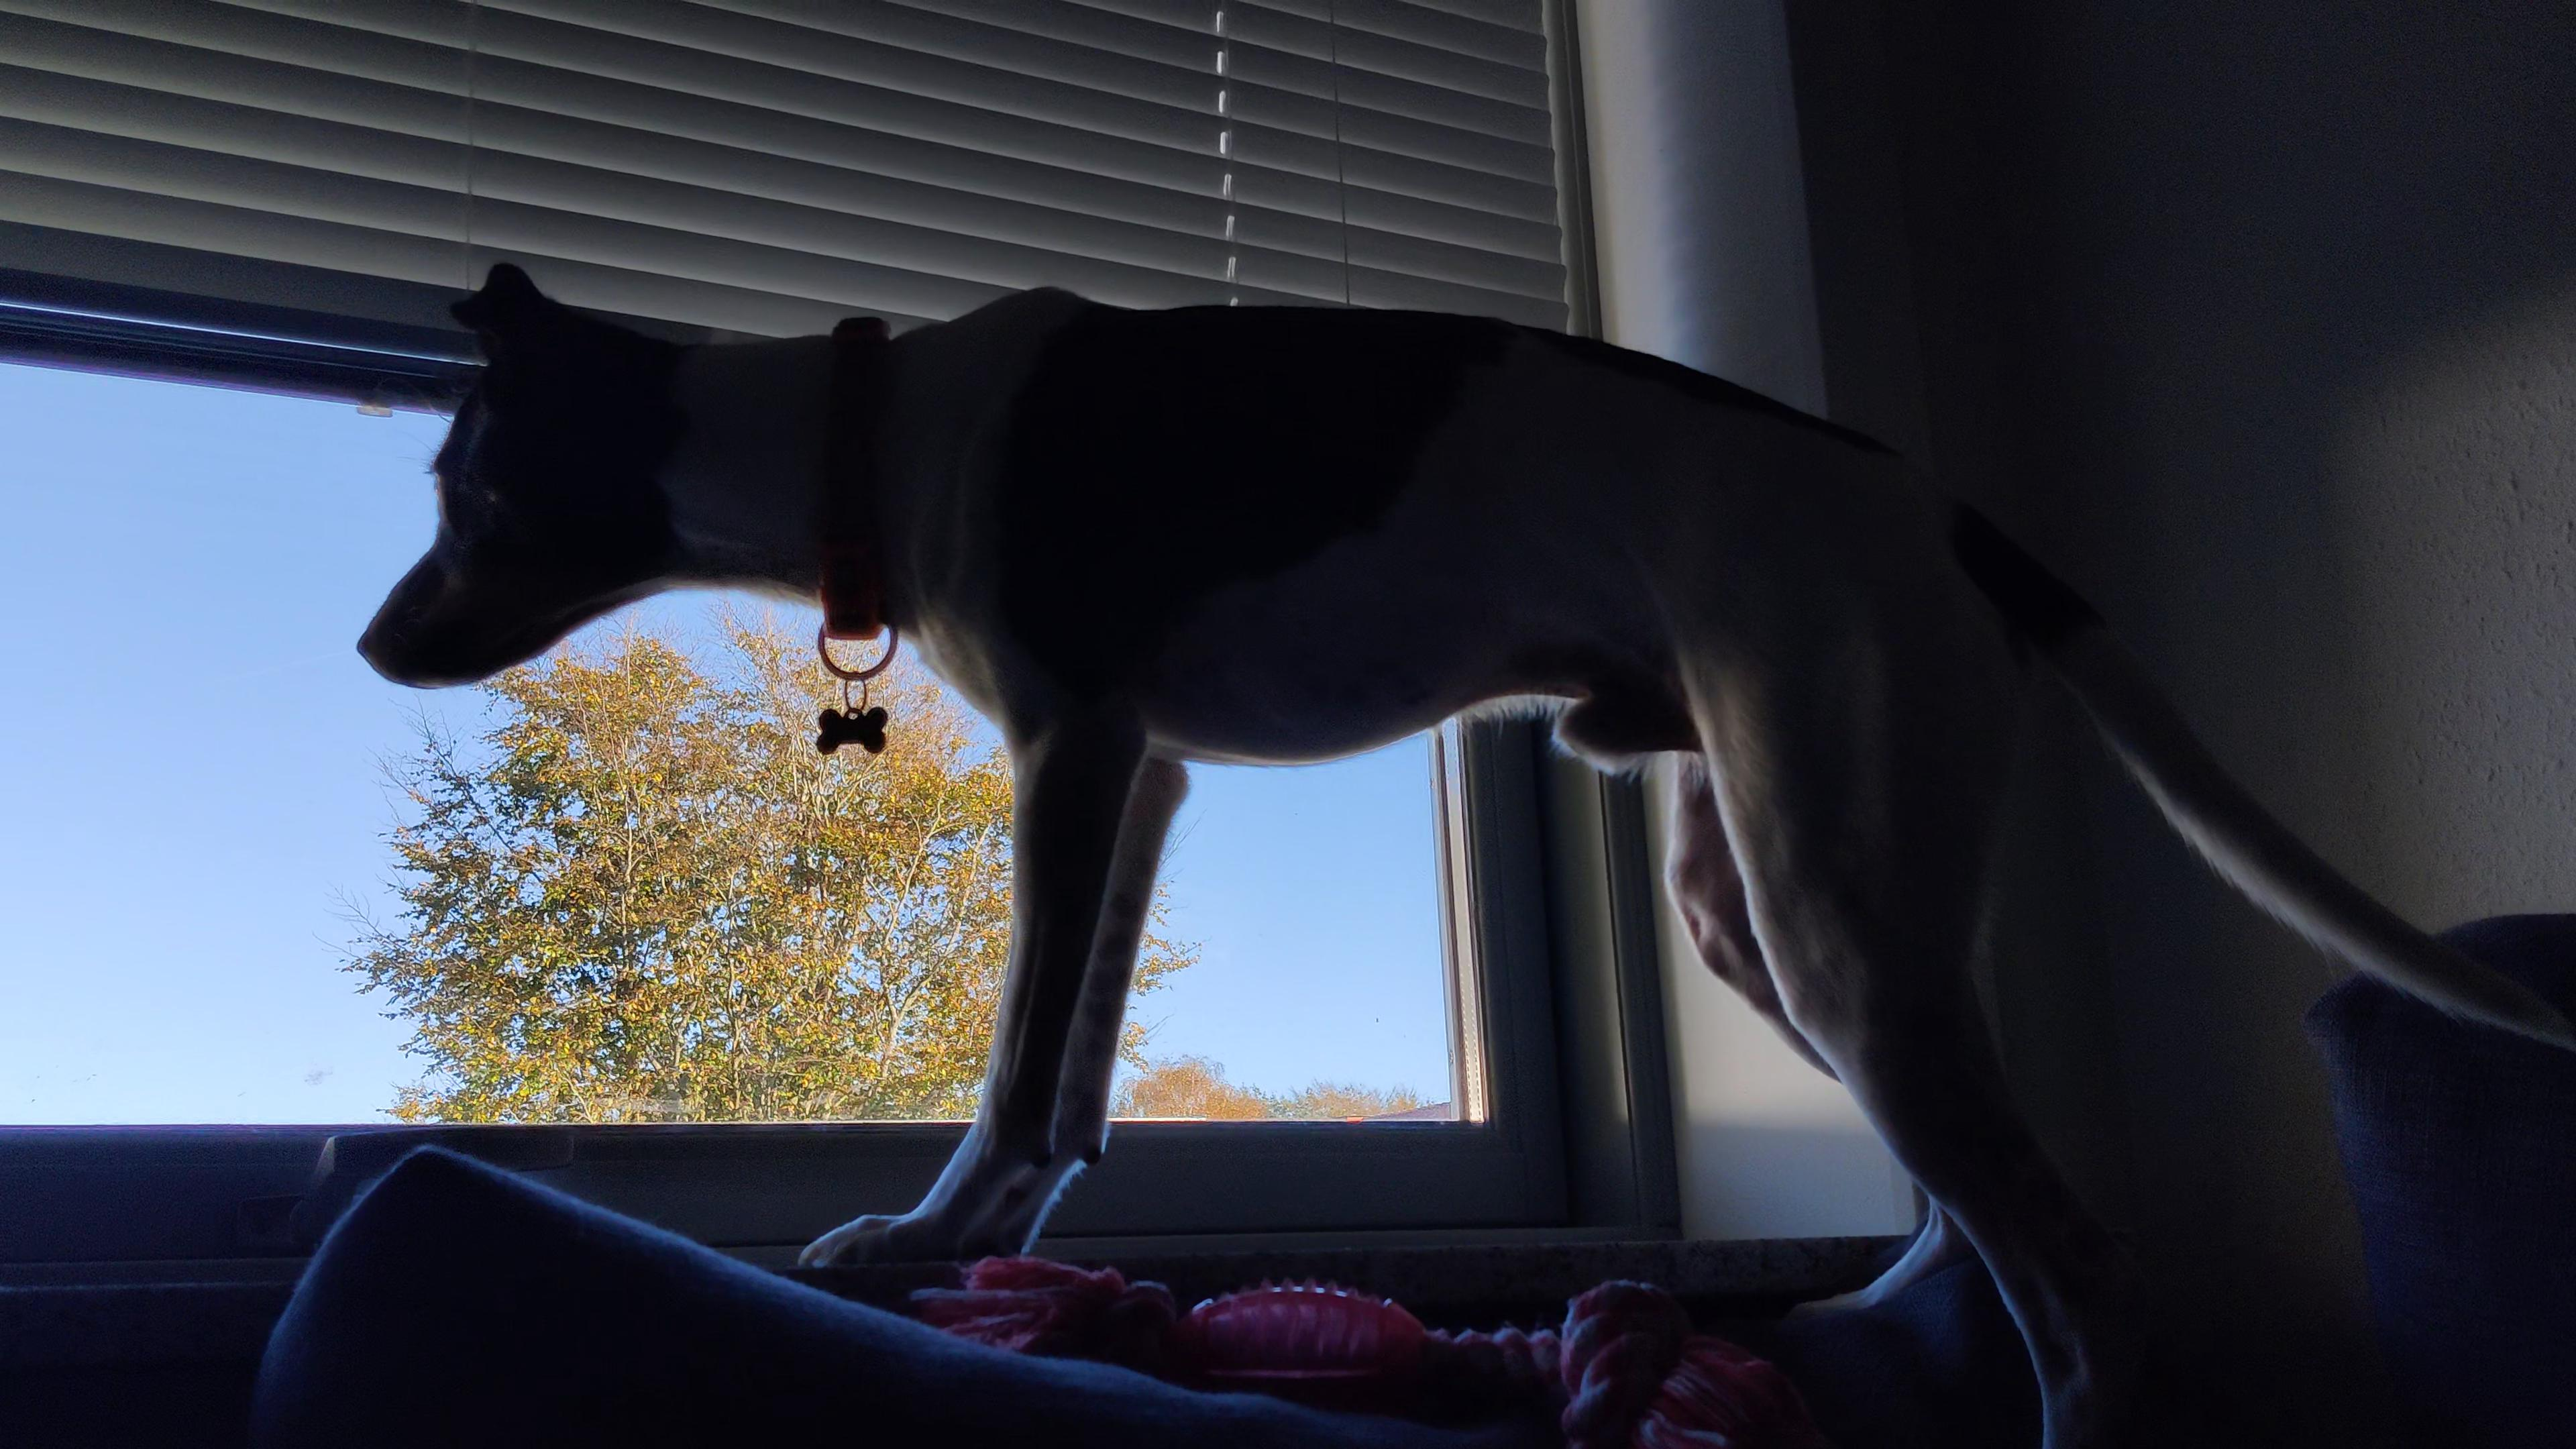Dog: (349, 258, 2576, 1449)
